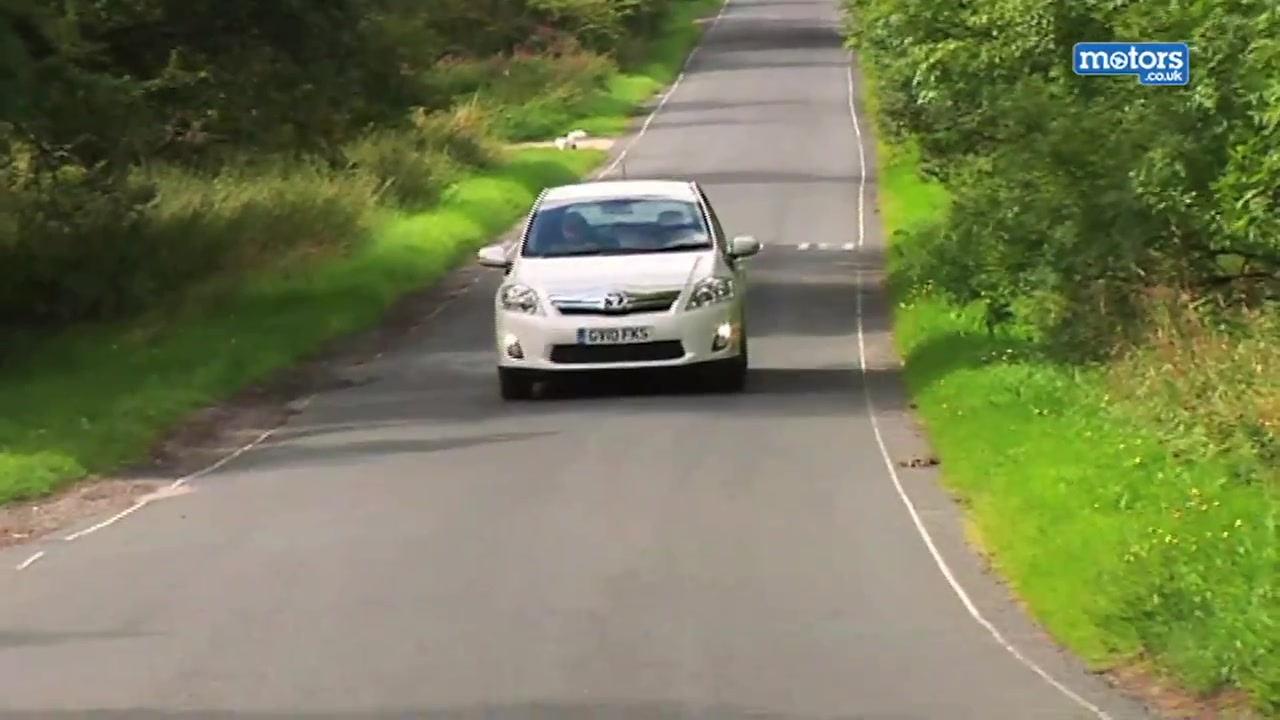car: (471, 174, 762, 405)
